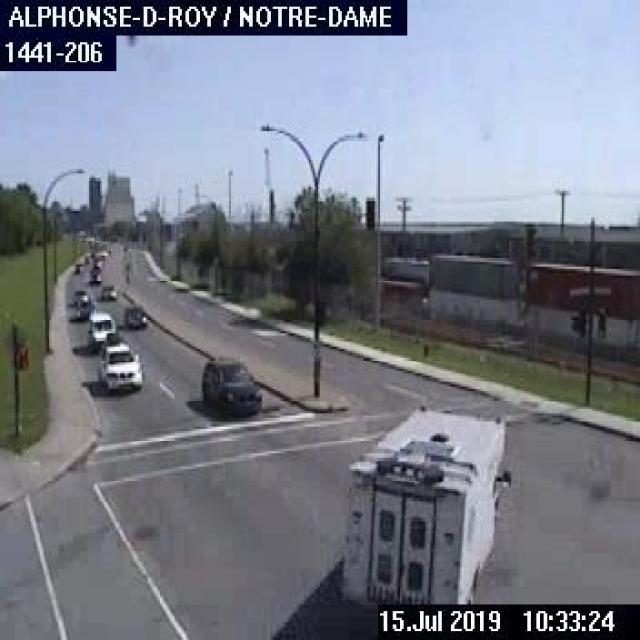vehicle: (340, 404, 511, 602), (198, 353, 260, 418), (95, 328, 142, 391), (84, 308, 118, 350), (124, 304, 144, 329), (76, 294, 92, 320), (71, 286, 89, 306), (99, 281, 116, 300), (85, 267, 101, 285), (73, 261, 85, 274)
